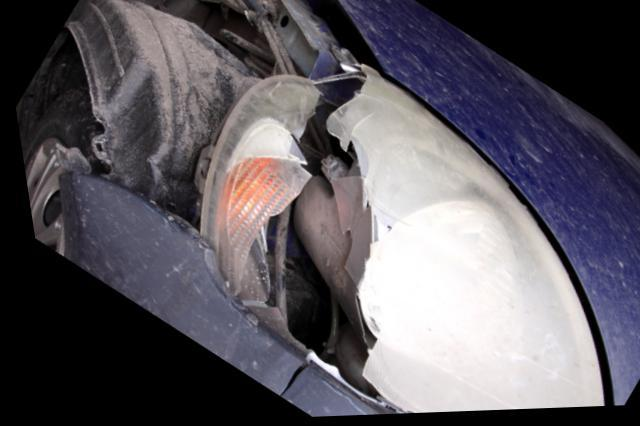crack: (265, 364, 299, 400)
lamp broken: (198, 65, 599, 417)
no part: (53, 0, 381, 233)
